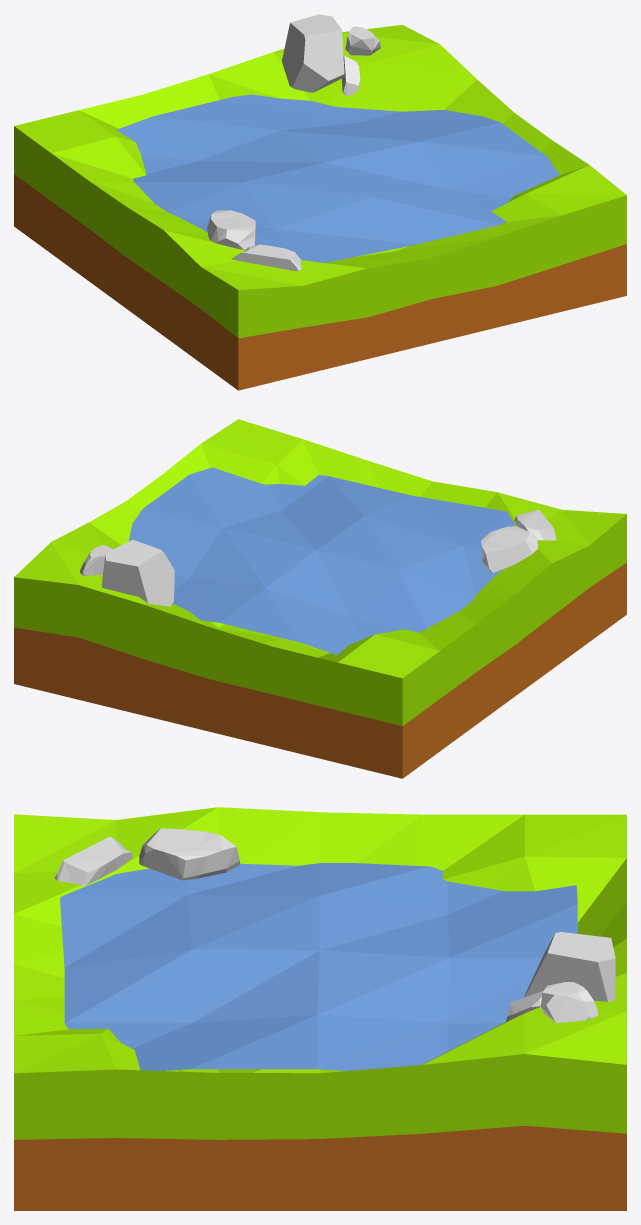
File: LAC_neutre-eau.fbx
3 views of the same model, one above another, from view 1: azimuth 30°, elevation 25°; view 2: azimuth 150°, elevation 25°; view 3: azimuth 270°, elevation 25° (orthographic). The views are drawn at different scales.
Visible parts, largest first — view 1: herbe.002; view 2: herbe.002; view 3: herbe.002.
Boxes of the visible parts, x1=… form: herbe.002: x1=14, y1=14, x2=626, y2=390; herbe.002: x1=14, y1=419, x2=626, y2=778; herbe.002: x1=14, y1=807, x2=626, y2=1210.
Size of the model in its own units: 5 by 1.78 by 5.
